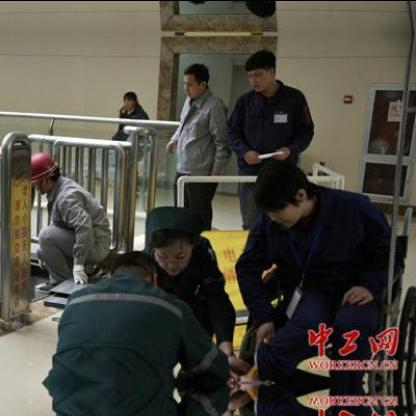Helmet: (27, 148, 59, 192)
No Helmet: (141, 202, 205, 272), (252, 159, 316, 225), (107, 243, 162, 293), (242, 48, 282, 92), (178, 60, 212, 98), (241, 0, 284, 17), (118, 86, 140, 110)
